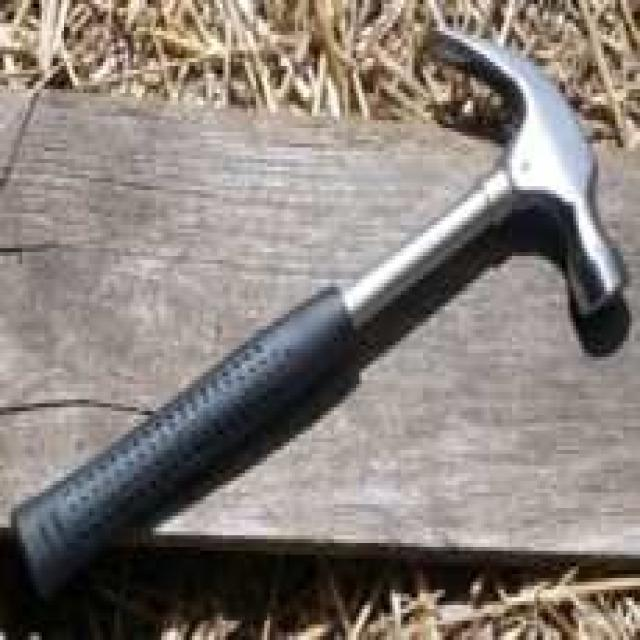hammer: (11, 34, 629, 609)
